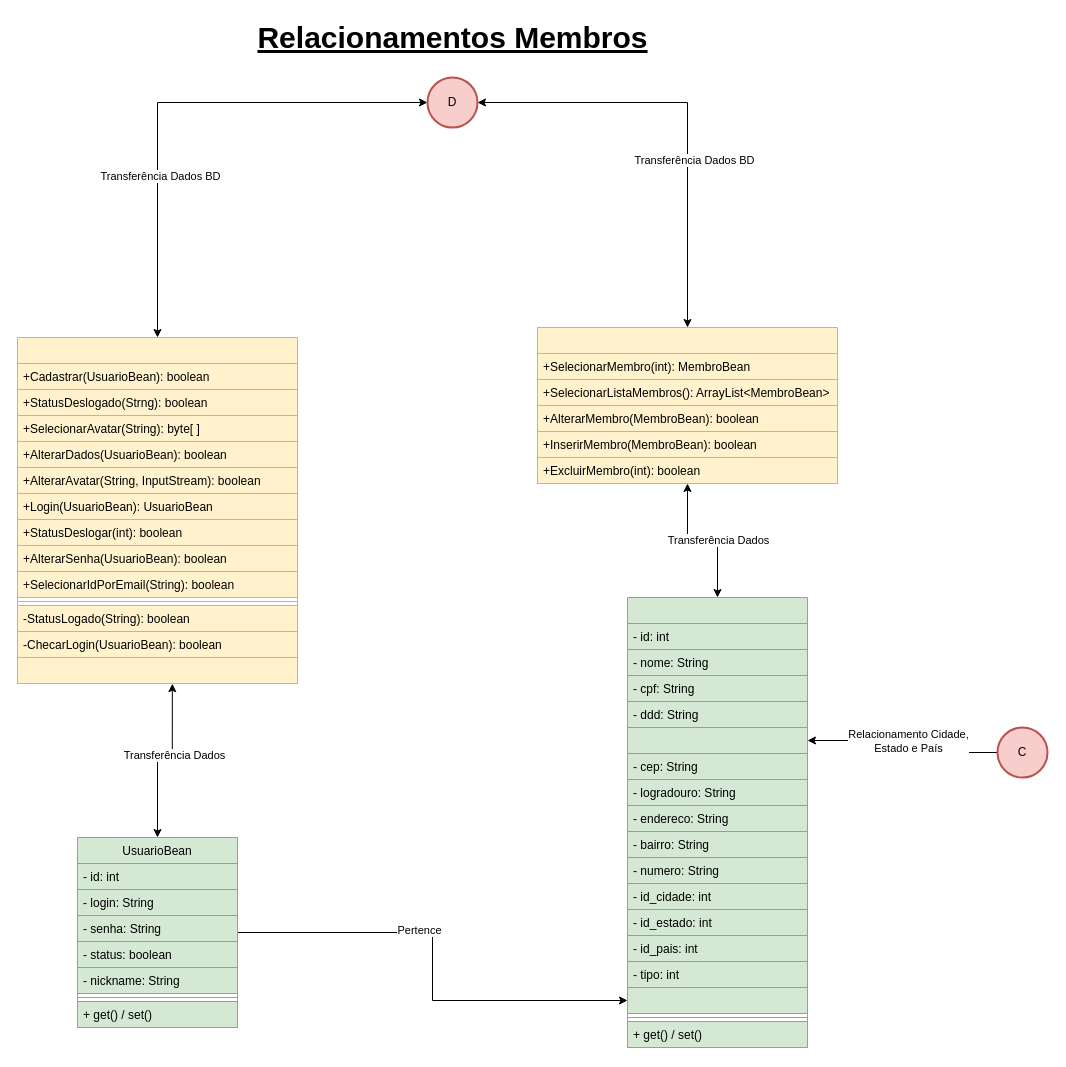
The diagram is 1066 pixels wide and 1067 high, and some of its shapes have lost their labels. The shapes that lost their labels are listed below. From the top down, each one's box as (x1, y1, x2, y2) in pixels, then its label:
(536, 326, 838, 484): MembroDao
(16, 336, 298, 684): UsuarioDao
(16, 656, 298, 684): -ChecarEmailAlteracaoDados(String, int): boolean
(626, 726, 808, 754): - telefone: String
(626, 596, 808, 1048): MembroBean
(626, 986, 808, 1014): - id_usuario: int
